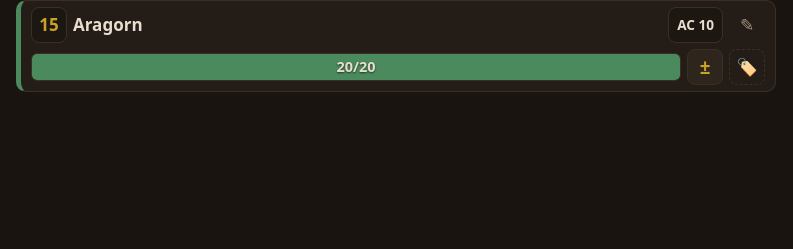
CreatureRow conditions › opens the condition picker from the add-condition button
Click the button named "condition". click: [747, 67]
box: [729, 49, 765, 85]
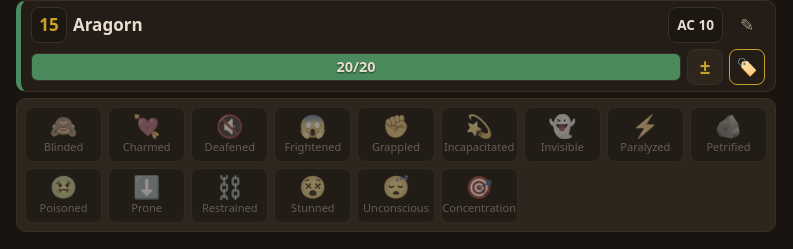
Result: the element named "conditions" is shown at [16, 98, 776, 232]
